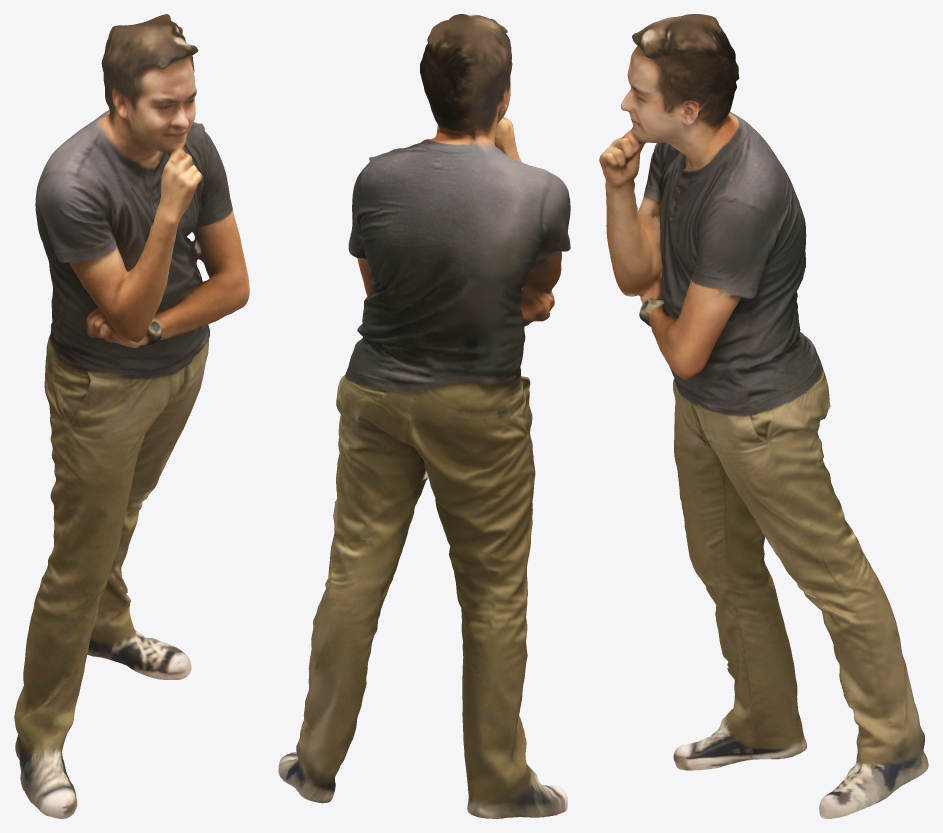
The model's file is person1.glb.
The picture shows the model from 3 angles, left to right: view 1: azimuth 30°, elevation 25°; view 2: azimuth 150°, elevation 25°; view 3: azimuth 270°, elevation 25°; orthographic projection. The views are drawn at different scales.
Parts seen in each view (by area): view 1: Object_2, Object_3; view 2: Object_2, Object_3; view 3: Object_2, Object_3.
Boxes of the visible parts, left/top/right/bottom form: Object_2: left=14, top=14, right=209, bottom=818; Object_3: left=37, top=14, right=249, bottom=422; Object_2: left=278, top=24, right=570, bottom=818; Object_3: left=336, top=14, right=570, bottom=440; Object_2: left=617, top=15, right=928, bottom=818; Object_3: left=599, top=14, right=828, bottom=459.
Size of the model in its own units: 0.5274 by 1.79 by 0.674.
Materials: 1 (1 with a texture image).
